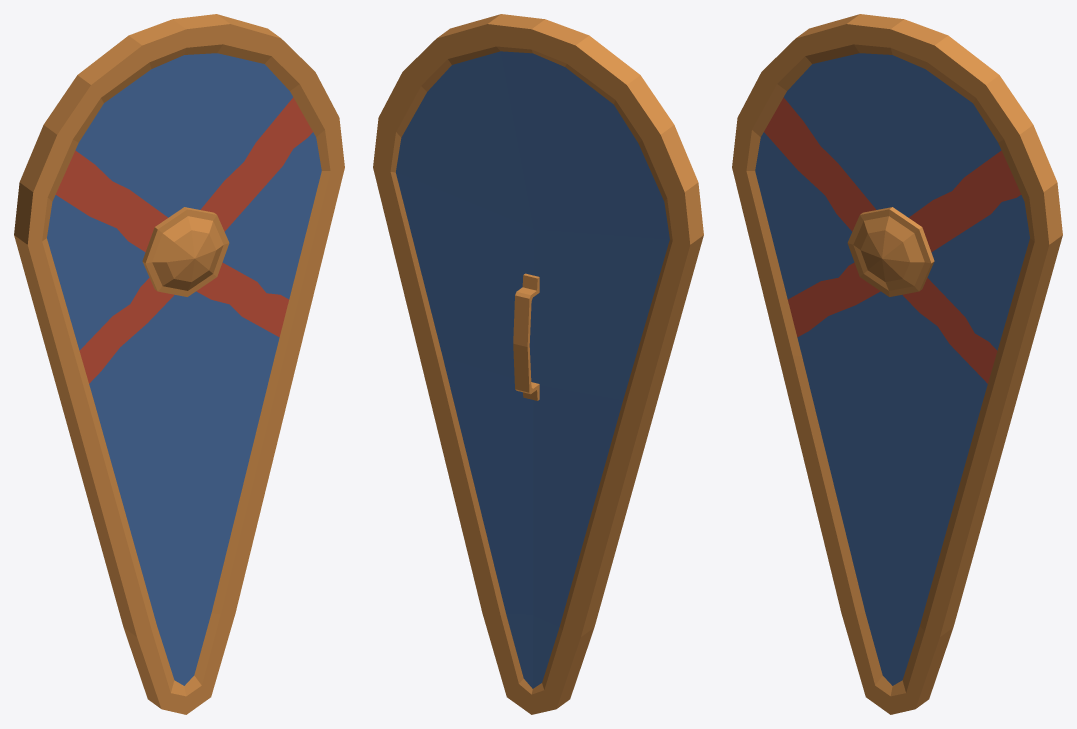
The model's file is SM_pwe_slavic_shield_01.fbx.
3 views of the same model, side by side, from view 1: azimuth 30°, elevation 25°; view 2: azimuth 150°, elevation 25°; view 3: azimuth 330°, elevation 25° (orthographic).
Visible parts, largest first — view 1: SM_pwe_slavic_shield_01; view 2: SM_pwe_slavic_shield_01; view 3: SM_pwe_slavic_shield_01.
Part boxes in pixels (x1=…): SM_pwe_slavic_shield_01: x1=14, y1=14, x2=344, y2=714; SM_pwe_slavic_shield_01: x1=373, y1=14, x2=703, y2=714; SM_pwe_slavic_shield_01: x1=732, y1=14, x2=1062, y2=714.
Bounding box in the file's own units: 59.35 × 123 × 10.57.
